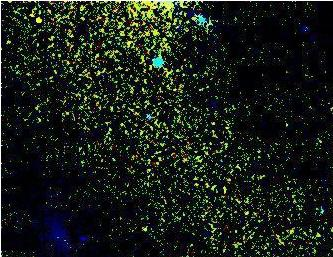star: (22, 5, 52, 35)
